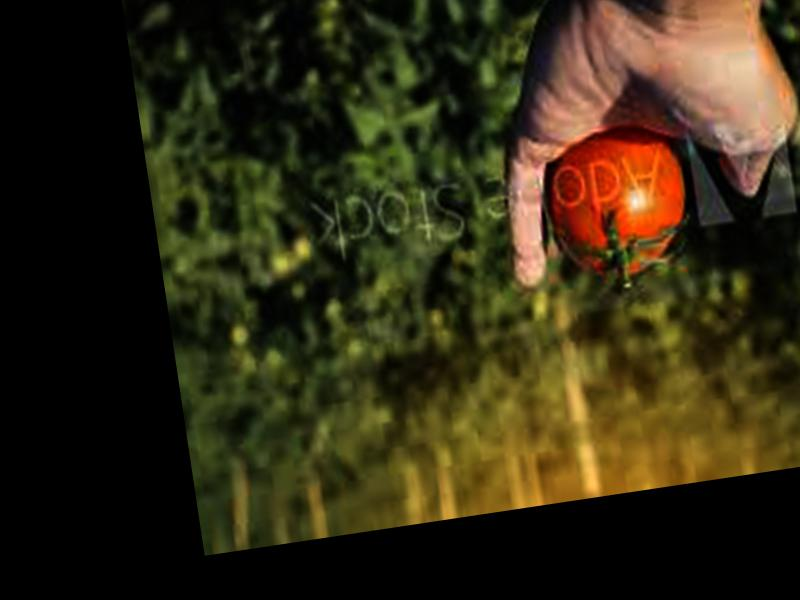Tomato: (537, 127, 692, 283)
